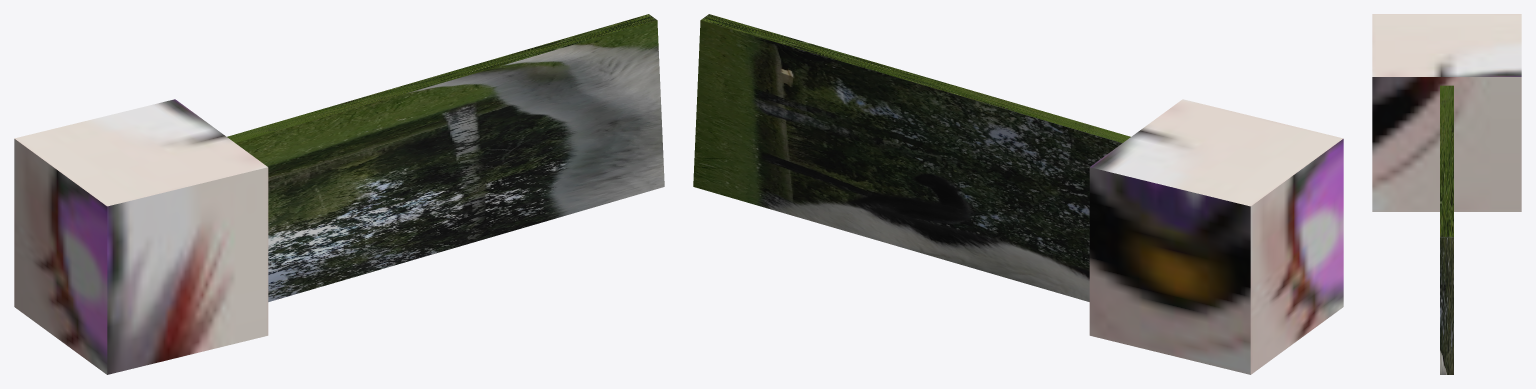
3 renders of one model, left to right at view 1: azimuth 30°, elevation 25°; view 2: azimuth 150°, elevation 25°; view 3: azimuth 270°, elevation 25°, orthographic. The views are drawn at different scales.
Parts seen in each view (by area): view 1: Cube.001, Cube; view 2: Cube.001, Cube; view 3: Cube, Cube.001.
Part boxes in pixels (<box>): Cube.001: <box>227,14,664,301</box>; Cube: <box>14,99,268,374</box>; Cube.001: <box>693,14,1130,301</box>; Cube: <box>1089,99,1343,374</box>; Cube: <box>1372,14,1521,211</box>; Cube.001: <box>1440,85,1453,374</box>.
Size of what is drawn, in the model's own units: 7.45 by 2.24 by 2.
2 materials, 2 textured.
